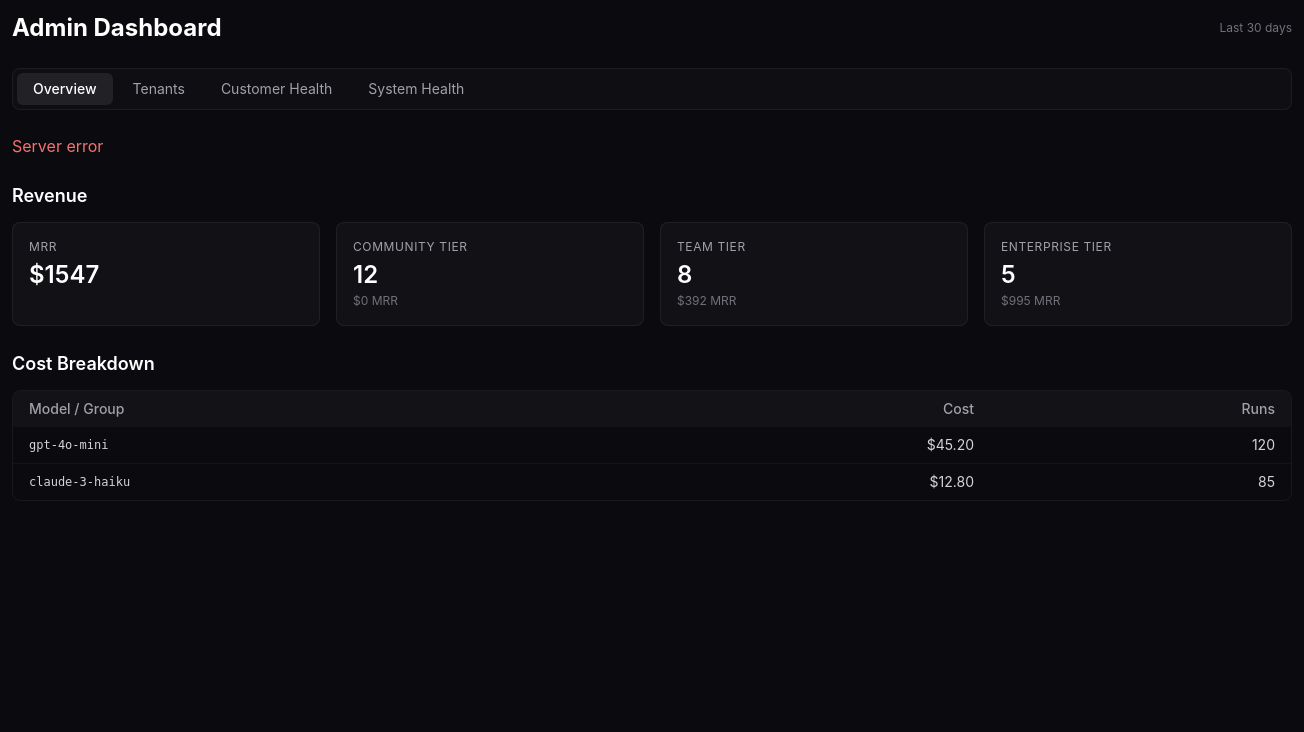
AdminDashboard - Tenants Tab › renders tenant table when tab is clicked
Click the button "Tenants".
click(159, 89)  # box [116,73,201,105]
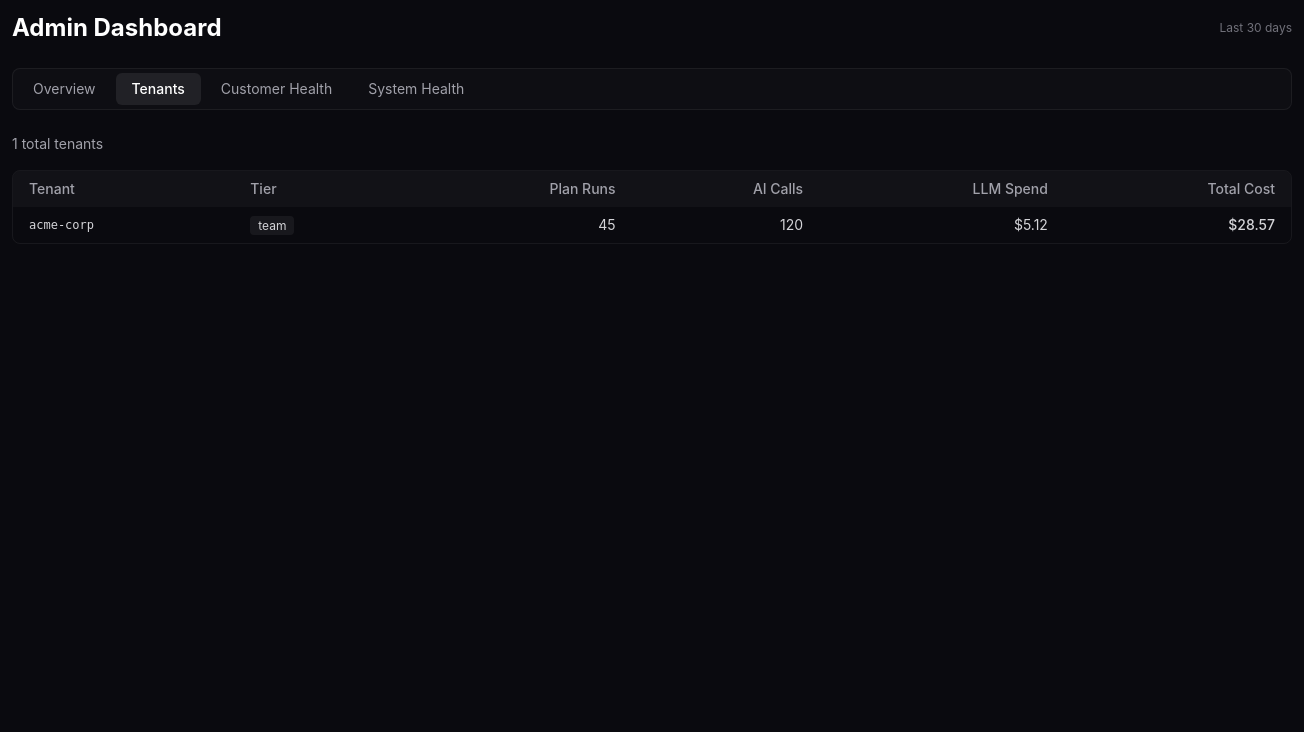
Now the text "acme-corp" is shown, box [13,207,234,243]
Now the text "1 total tenants" is shown, box [12,135,103,152]
